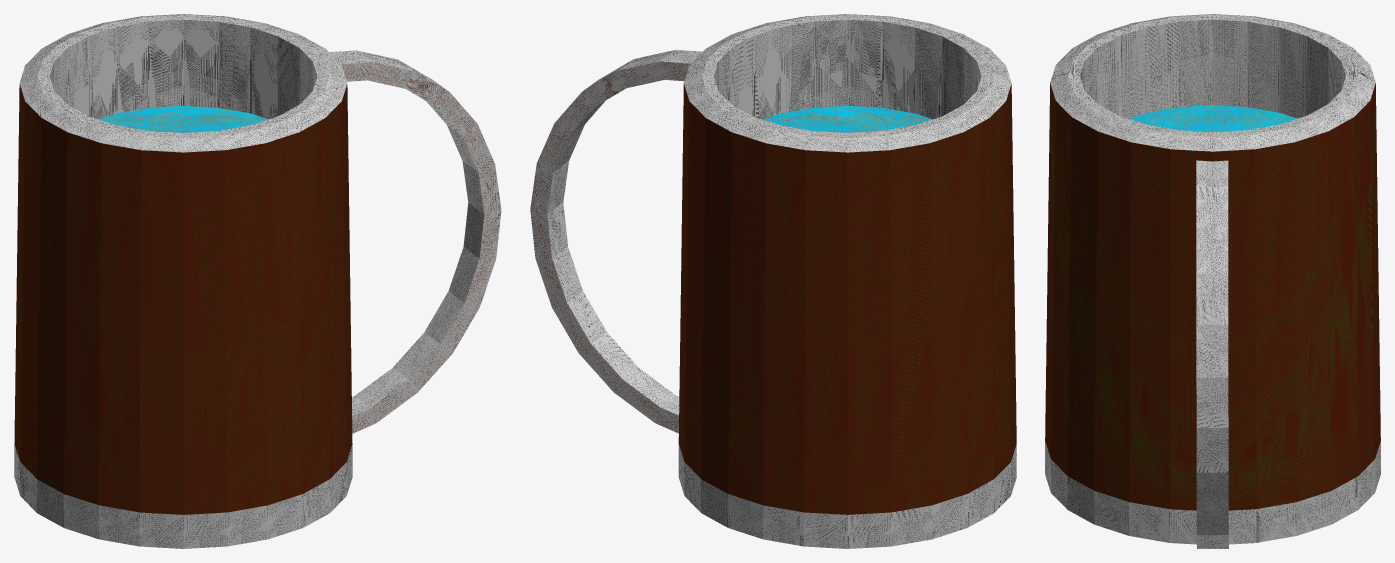
3 views of the same model, side by side, from view 1: azimuth 30°, elevation 25°; view 2: azimuth 150°, elevation 25°; view 3: azimuth 270°, elevation 25° (orthographic).
Visible parts, largest first — view 1: mesh1_mesh1-geometry, mesh2_mesh2-geometry, mesh3_mesh3-geometry; view 2: mesh1_mesh1-geometry, mesh2_mesh2-geometry, mesh3_mesh3-geometry; view 3: mesh1_mesh1-geometry, mesh2_mesh2-geometry, mesh3_mesh3-geometry.
Boxes of the visible parts, x1,y1,x2,y2 form: mesh1_mesh1-geometry: [14, 14, 352, 548]; mesh2_mesh2-geometry: [329, 50, 501, 433]; mesh3_mesh3-geometry: [98, 106, 268, 132]; mesh1_mesh1-geometry: [678, 14, 1016, 548]; mesh2_mesh2-geometry: [530, 49, 702, 433]; mesh3_mesh3-geometry: [763, 106, 932, 132]; mesh1_mesh1-geometry: [1045, 14, 1380, 544]; mesh2_mesh2-geometry: [1196, 160, 1228, 548]; mesh3_mesh3-geometry: [1128, 105, 1297, 131].
Bounding box in the file's own units: 0.687 × 0.5775 × 0.4409.
